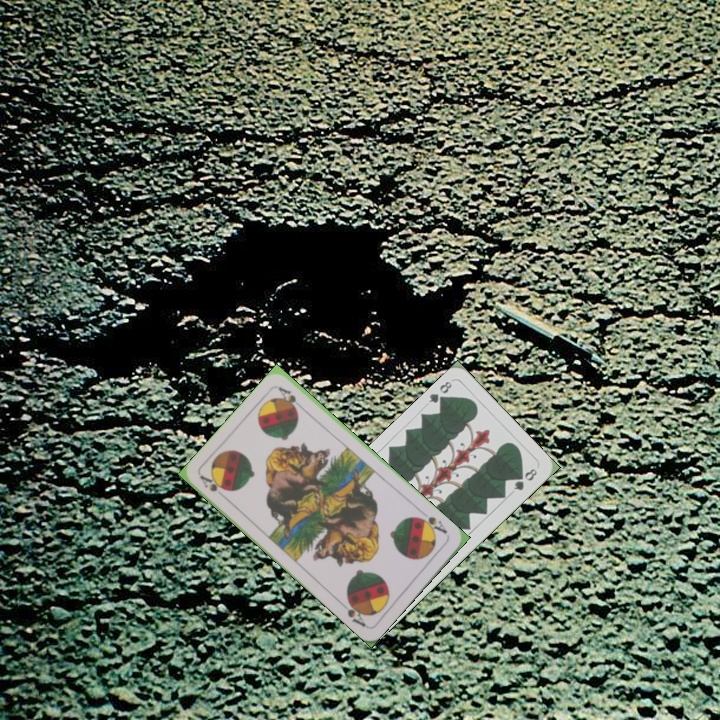G8: (424, 377, 455, 408)
SA: (413, 512, 450, 537), (196, 471, 230, 494)
